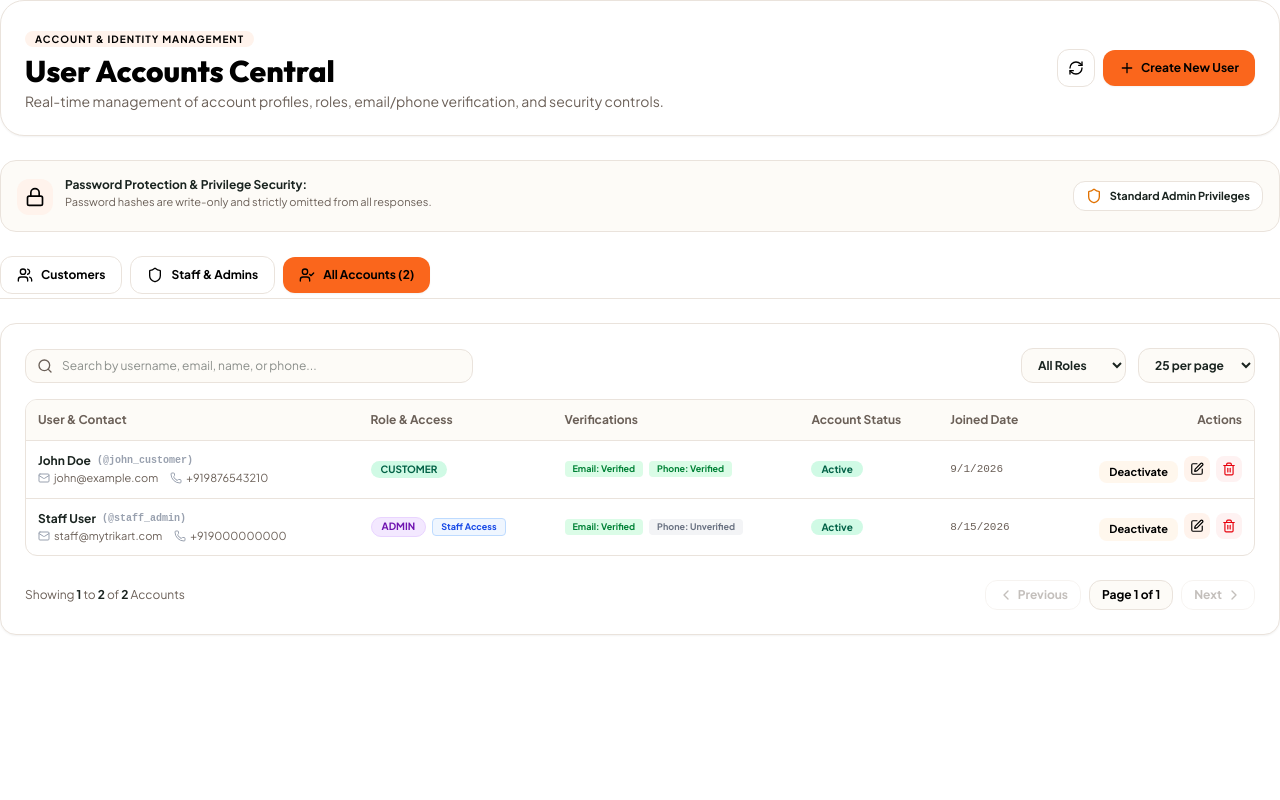
Scenario: UserManagementModule — Hardened Accounts API Integration › 4. gates role and password controls for non-superusers on admin rows
Expected: the text "Standard Admin Privileges" is shown, [1110, 189, 1250, 203]
Click the button titled "Edit User" in the row of "Staff User" at x=1197, y=526, box [1184, 513, 1210, 539]
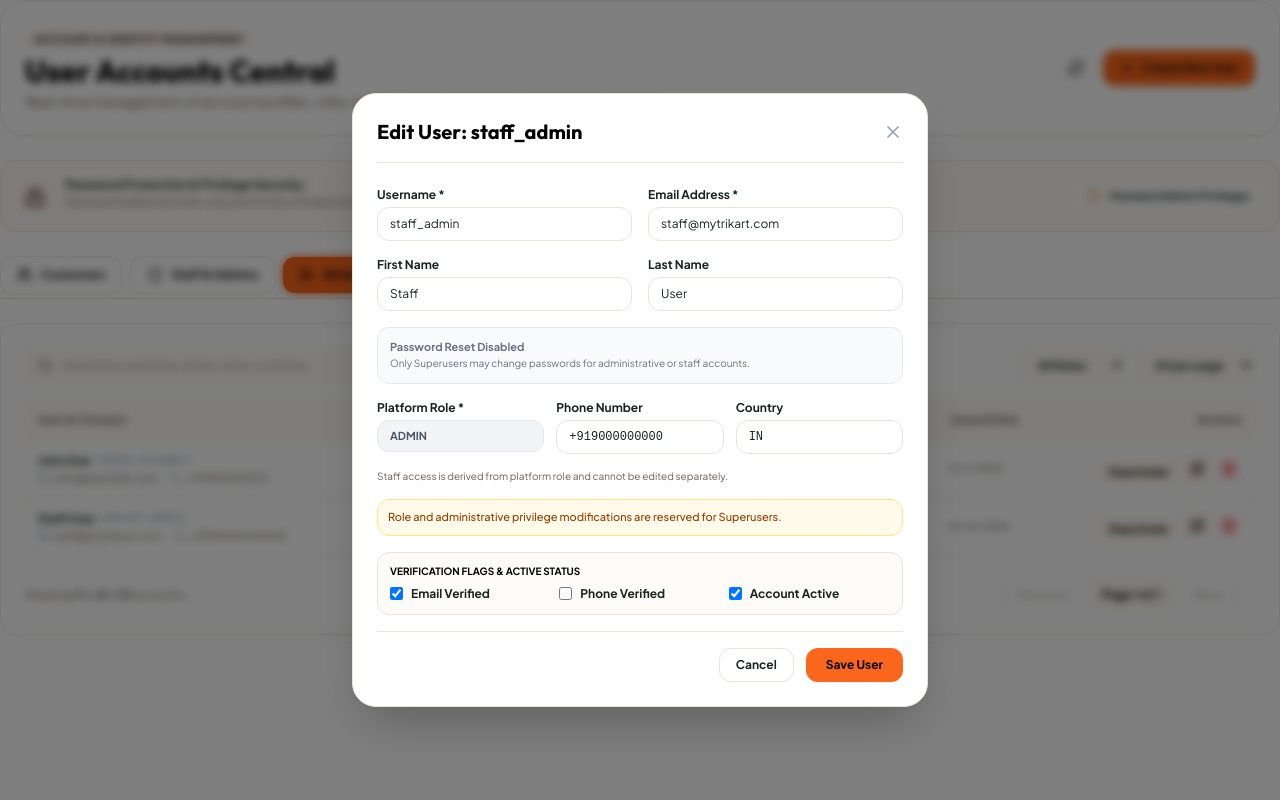
Expected: the text "Role and administrative privilege modifications are reserved for Superusers" is shown, [388, 510, 782, 523]
Expected: the text "Staff access is derived from platform role and cannot be edited separately." is shown, [377, 470, 728, 482]
Expected: the text "Password Reset Disabled" is shown, [390, 340, 524, 353]
